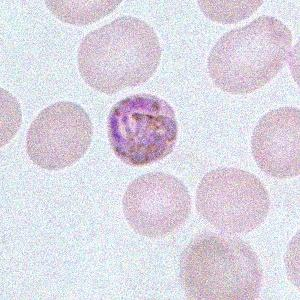Infected: (109, 94, 178, 165)
Uninfected: (76, 16, 163, 99), (207, 15, 294, 94), (197, 168, 268, 235), (26, 102, 93, 172), (183, 240, 261, 300), (122, 172, 191, 238)
